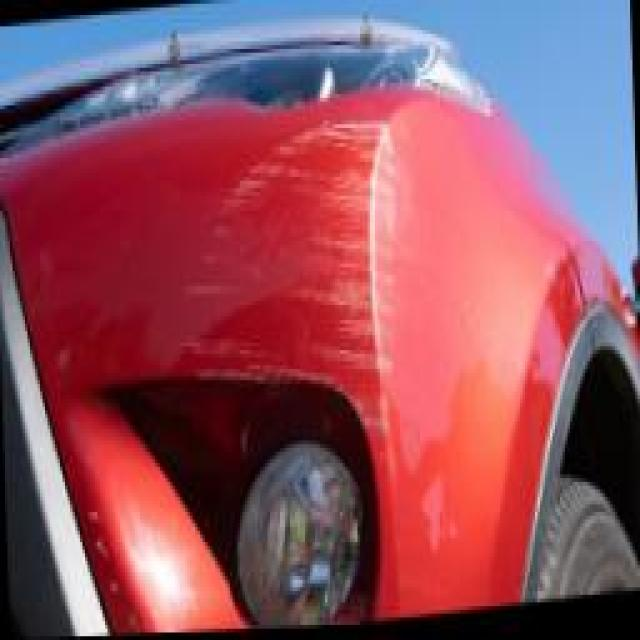Bumper: (157, 100, 413, 470)
